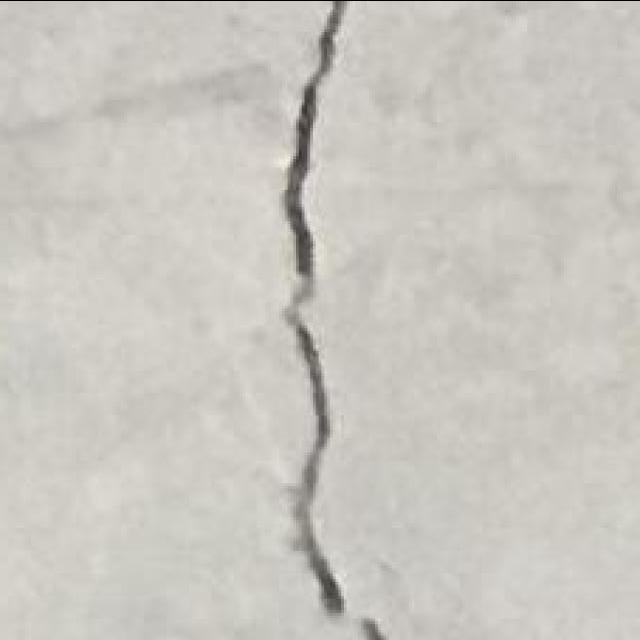Crack: (277, 1, 386, 638)
